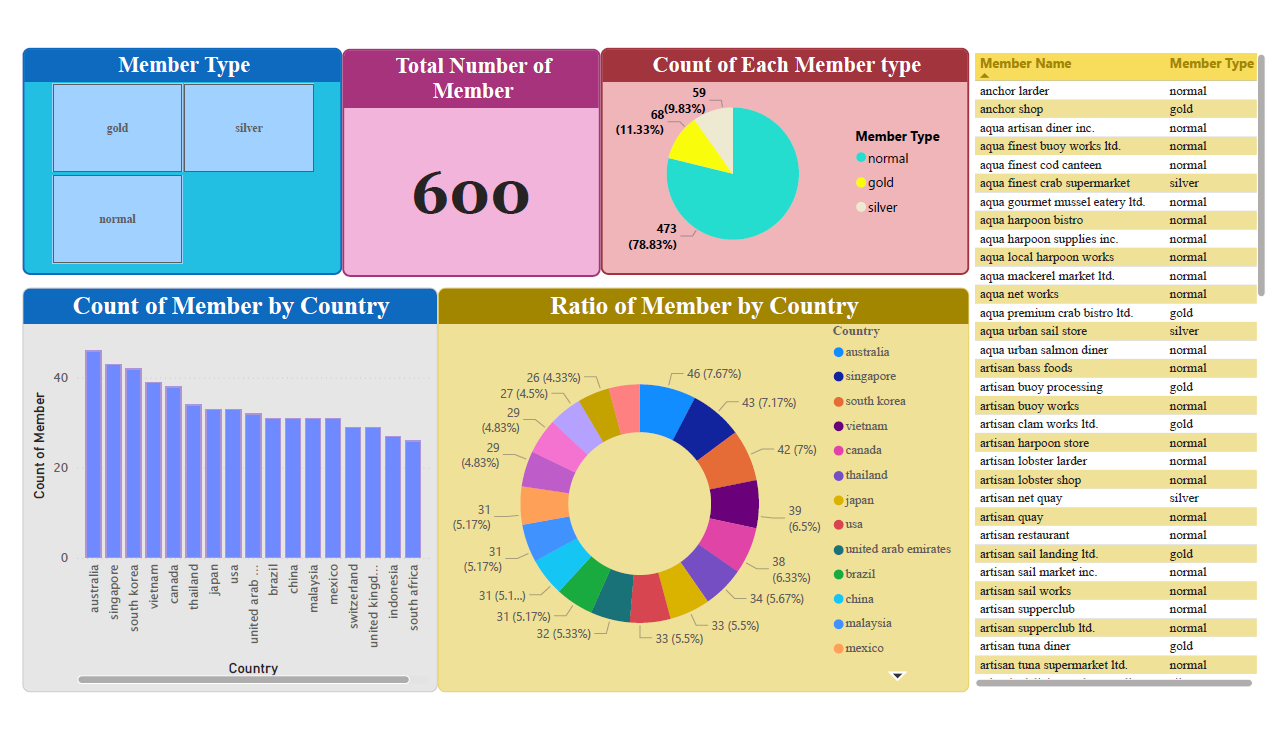

What the dashboard file says about the page in this screenshot:
{"tool":"powerbi","page":{"name":"Customer Information","canvas":[1280,720],"ordinal":4},"visuals":[{"type":"columnChart","title":"Count of Member by Country","fields":{"Category":["member data.Country"],"Y":["CountNonNull(member data.member name)"]},"box":[0,272.7,425.5,415.8],"z":0},{"type":"slicer","title":"Member Type","fields":{"Values":["member data.member type "]},"box":[0,26.9,327.7,233.6],"z":1000},{"type":"card","title":"Total Number of Member","fields":{"Values":["CountNonNull(member data.member name)"]},"box":[327.7,28.1,265.4,233.6],"z":2000},{"type":"tableEx","fields":{"Values":["member data.member name","member data.member type "]},"box":[970.9,28.1,309.4,660.3],"z":3000},{"type":"pieChart","title":"Count of Each Member type","fields":{"Y":["CountNonNull(member data.member name)"],"Category":["member data.member type "]},"box":[593.1,26.9,377.9,233.6],"z":4000},{"type":"donutChart","title":"Ratio of Member by Country","fields":{"Y":["CountNonNull(member data.member name)"],"Category":["member data.Country"]},"box":[425.5,272.7,545.4,415.8],"z":5000}]}

Visuals, with their boxes in screenshot pixels (x1, y1, x2, y2), scaled from the page's 1280x720 canvas onto the 1288x740 screenshot:
"Count of Member by Country" columnChart: detection(0, 280, 428, 708)
"Member Type" slicer: detection(0, 28, 330, 268)
"Total Number of Member" card: detection(330, 29, 597, 269)
tableEx - member data.member name x member data.member type : detection(977, 29, 1287, 708)
"Count of Each Member type" pieChart: detection(597, 28, 977, 268)
"Ratio of Member by Country" donutChart: detection(428, 280, 977, 708)
